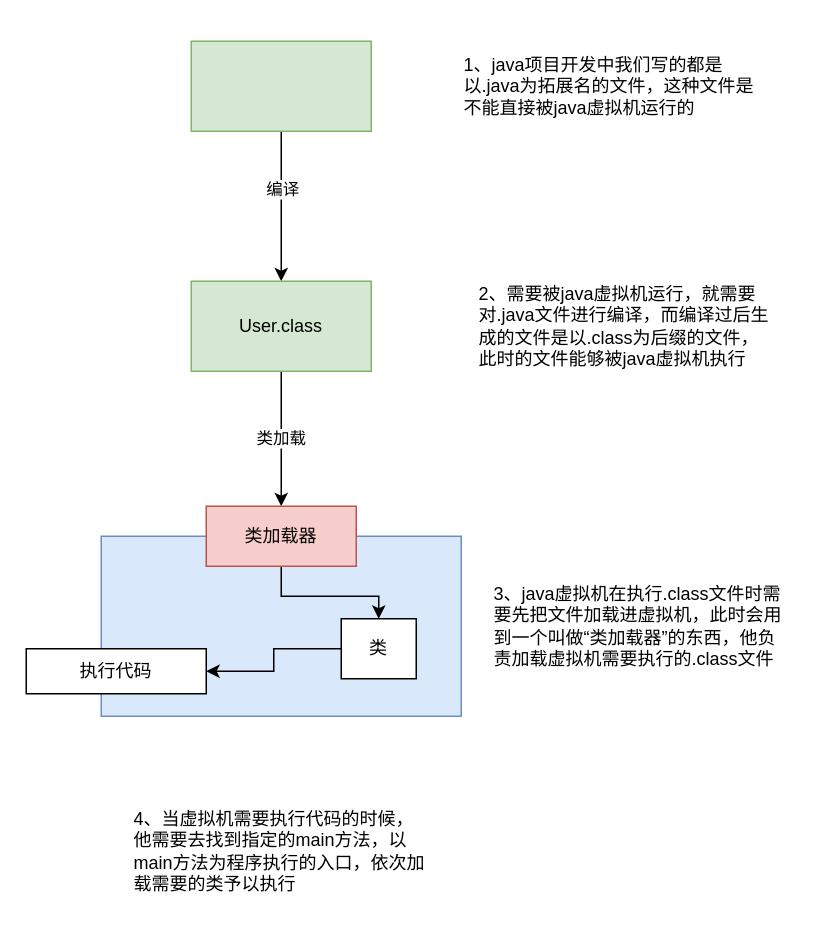
This 818x936 diagram has some shape labels left out. Each missing label, with the box of its shape:
JVM: (100, 535, 461, 716)
User.java: (190, 40, 371, 131)
